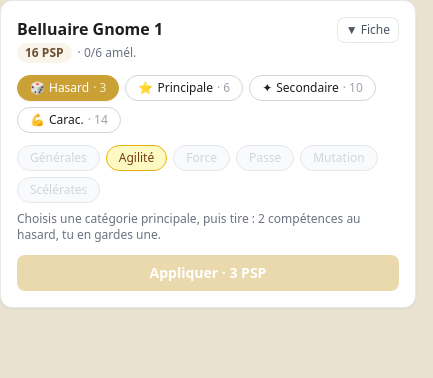
Test: AdvancementEditor › charge le catalogue depuis /api/skills et peuple le picker selon l'accès
Click the button with test id "level-up-type-primary-gnome1".
click(184, 88)  # box [125,75,243,101]
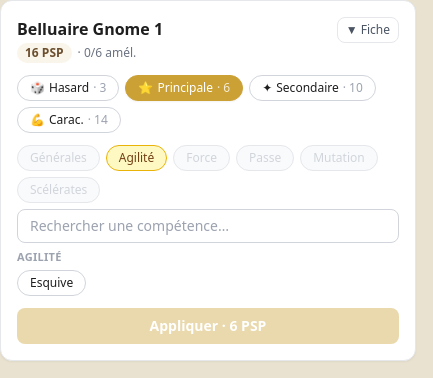
Expected: the button "Esquive" is shown, [17,270,86,296]
